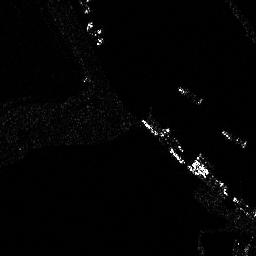ship: (221, 128, 248, 148), (178, 86, 204, 105)
